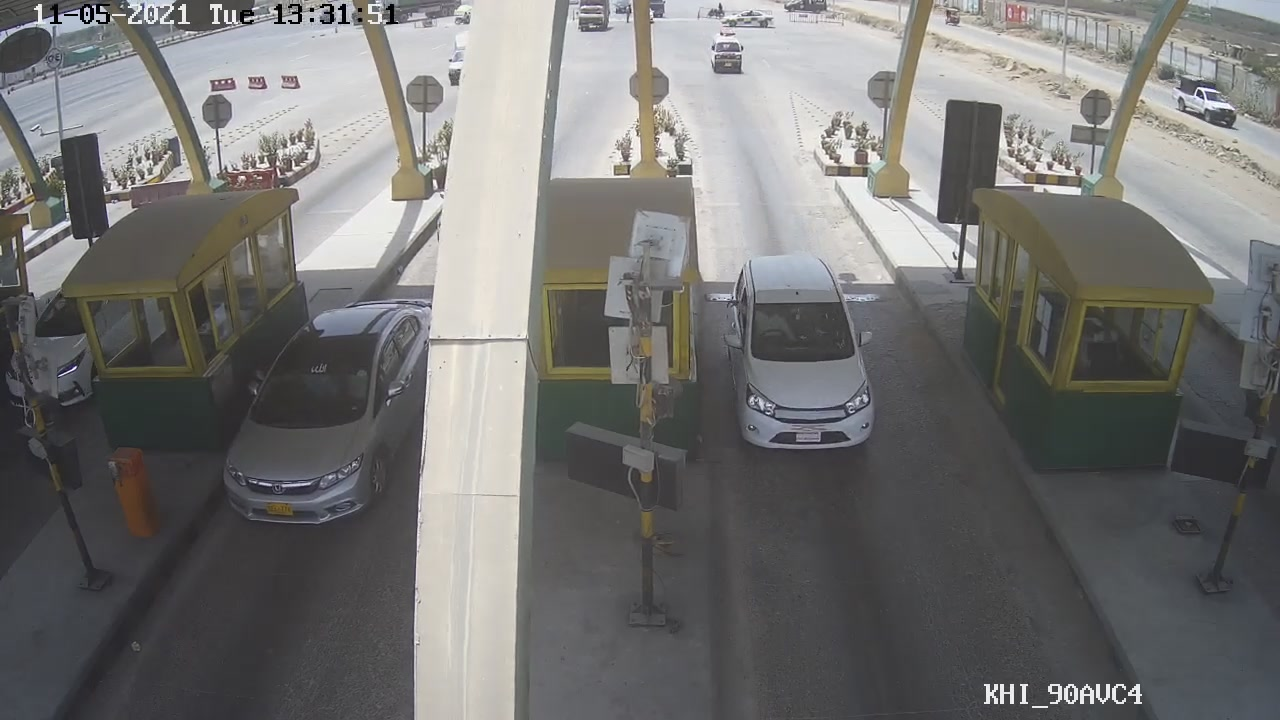F1: (723, 247, 885, 451)
